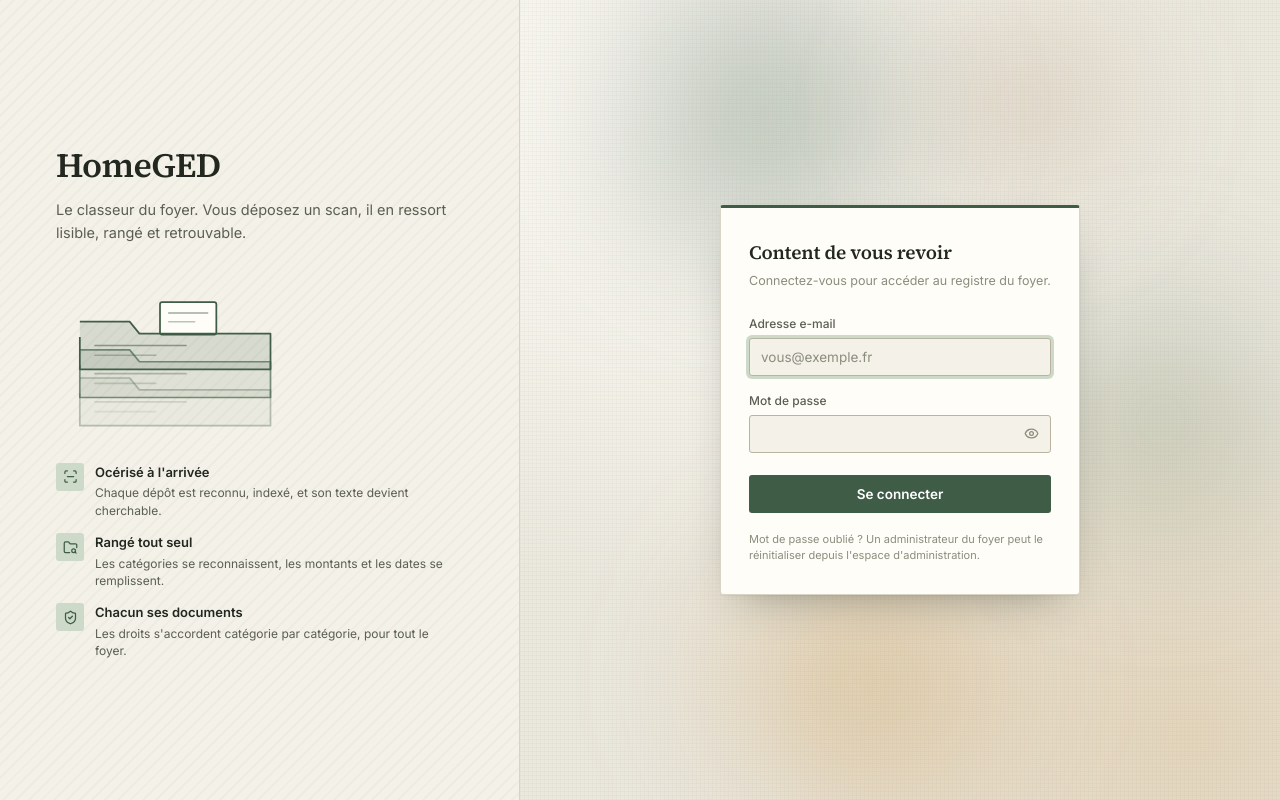
Test case: erreur de connexion › annonce un refus d'authentification dans une fenêtre à acquitter
Expected: the button "Se connecter" is shown, [749,475,1051,513]
Type "marie@foyer.fr" into the field labelled "Adresse e-mail" at (900, 357), box [749,338,1051,376]
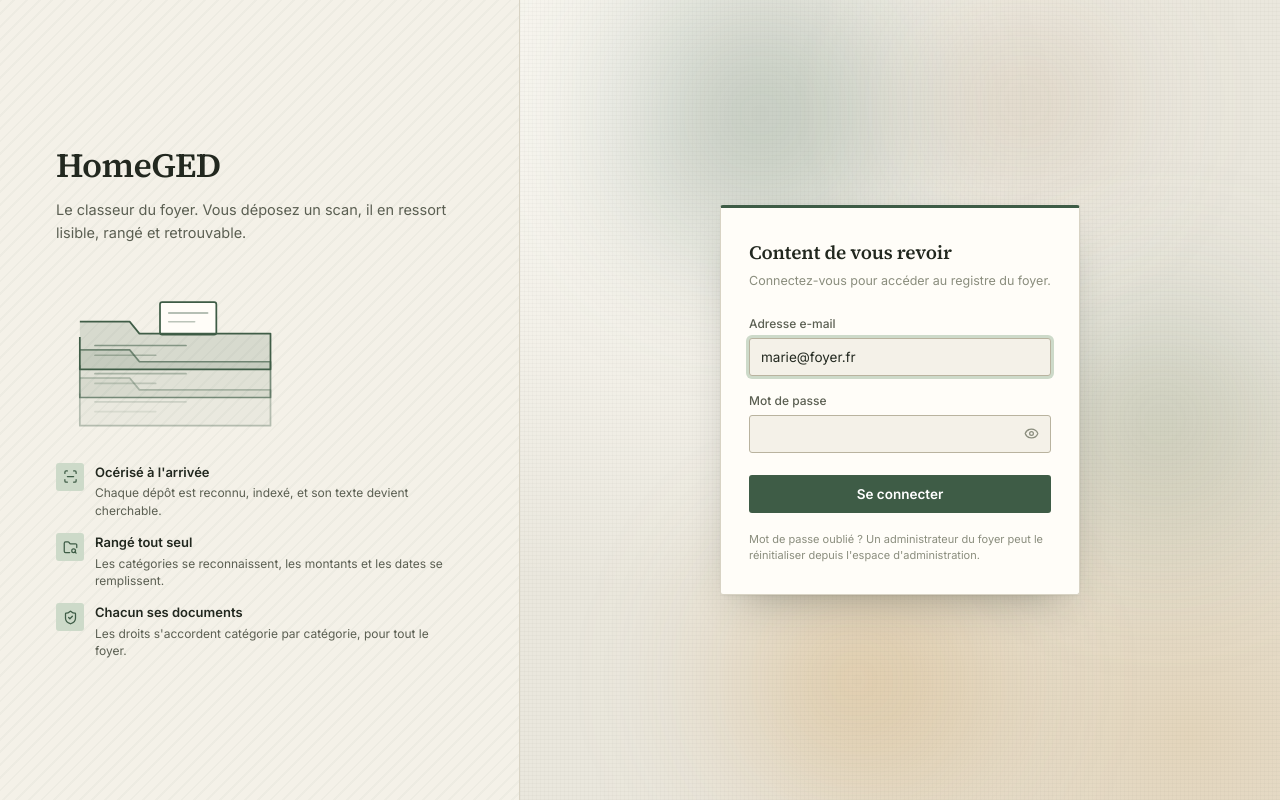
Type "mauvais" into the password field labelled "Mot de passe" at (900, 434), box [749,415,1051,453]
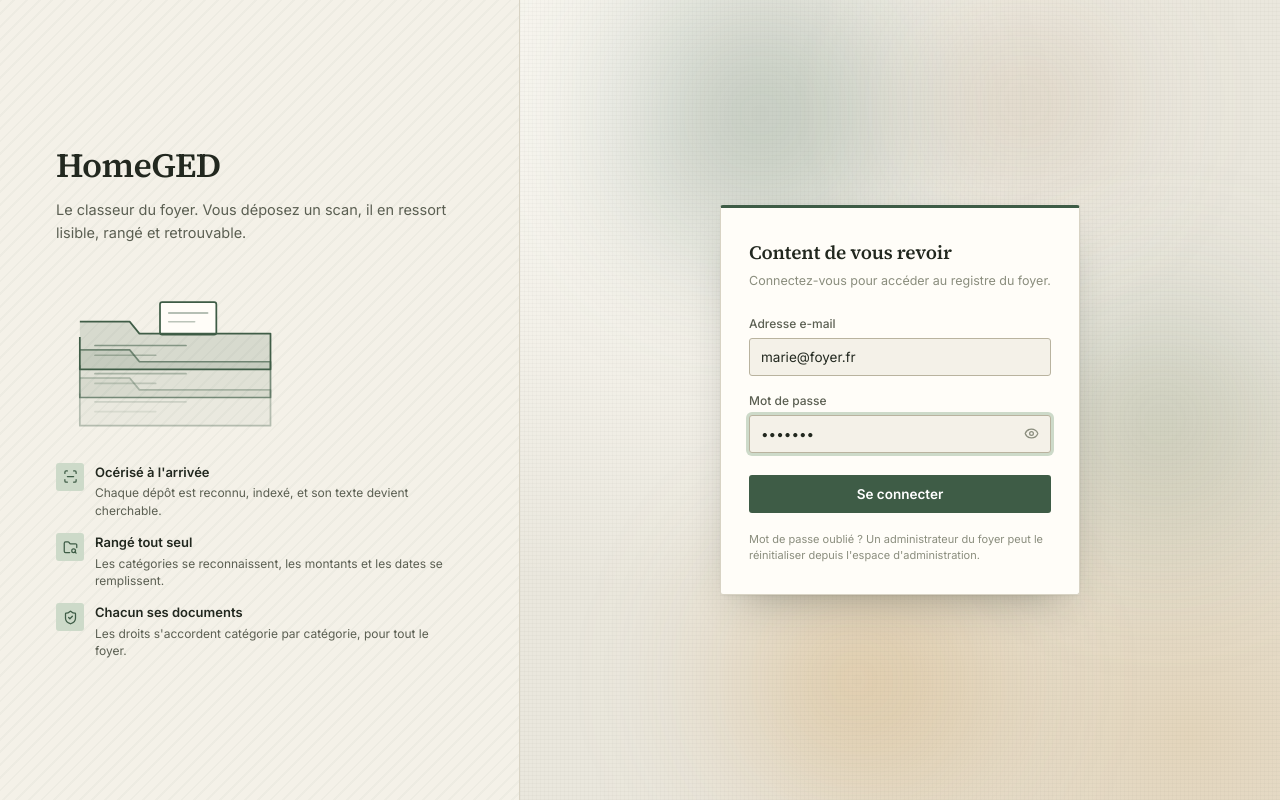
Click the button "Se connecter" at (900, 494), box [749,475,1051,513]
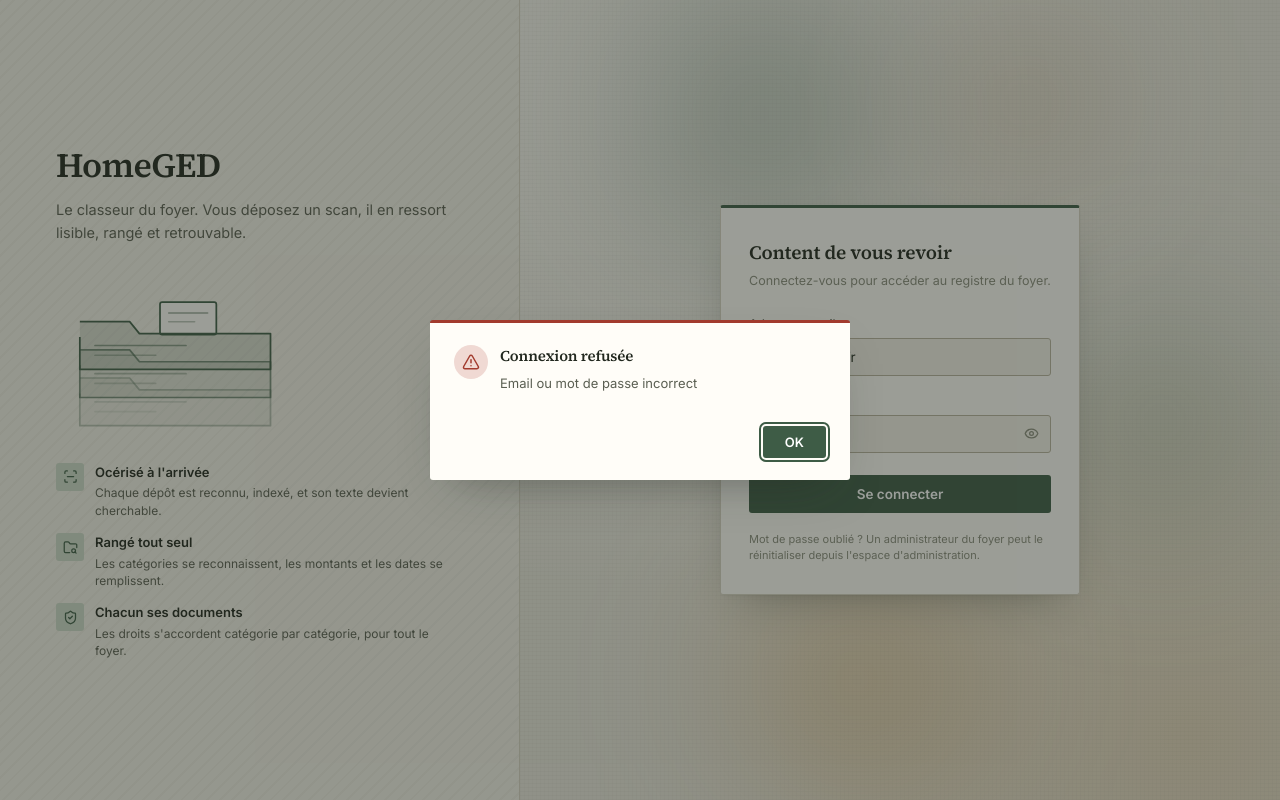
Now the dialog shows "Email ou mot de passe incorrect", box [500,375,697,391]
Click the button "OK" at (794, 442), box [763,426,826,458]
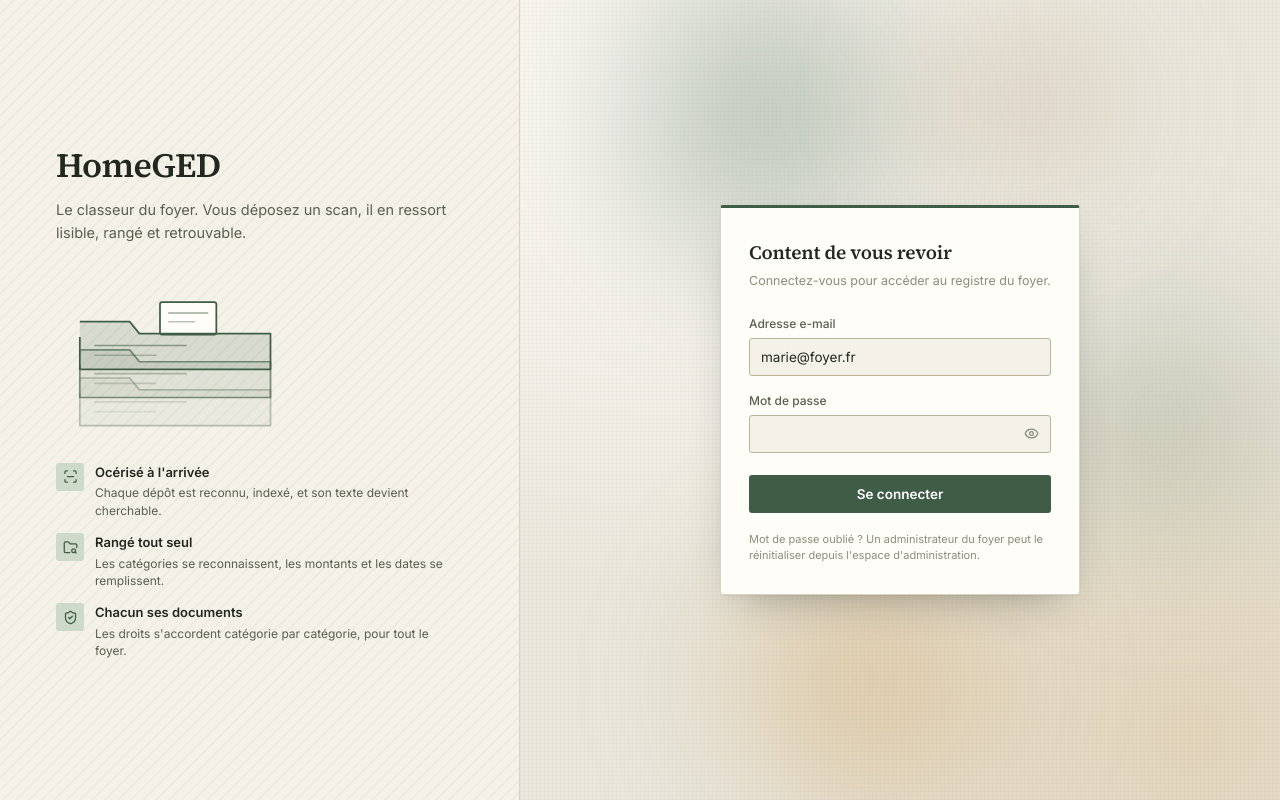
Now the dialog is gone
